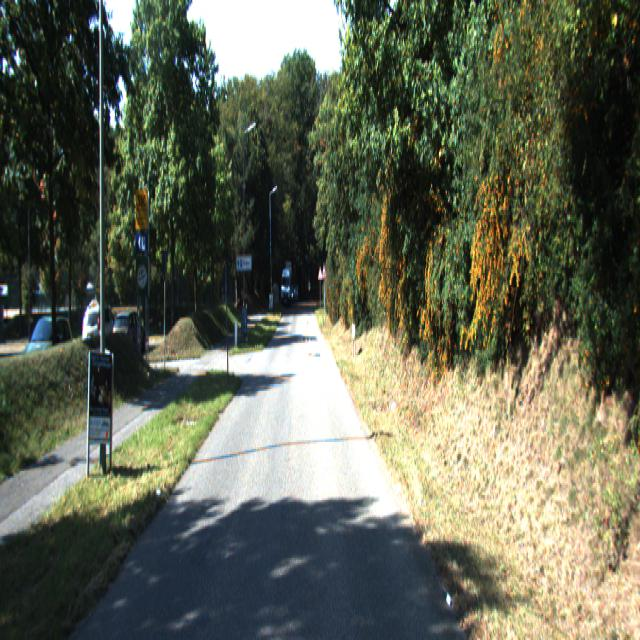Car: (18, 312, 78, 391), (82, 305, 121, 359), (112, 309, 147, 360)
